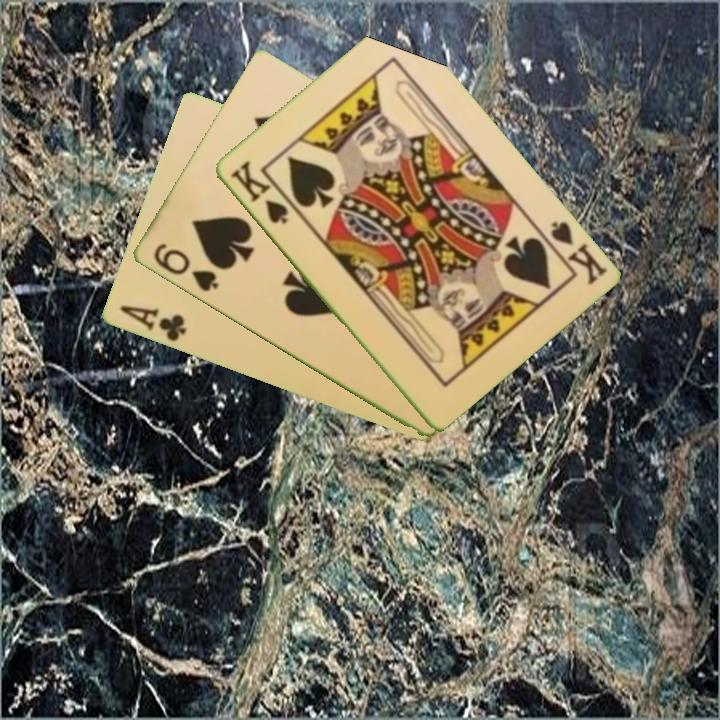6s: (149, 239, 221, 295)
Ac: (116, 302, 189, 345)
Ks: (535, 217, 610, 288), (225, 156, 291, 227)
